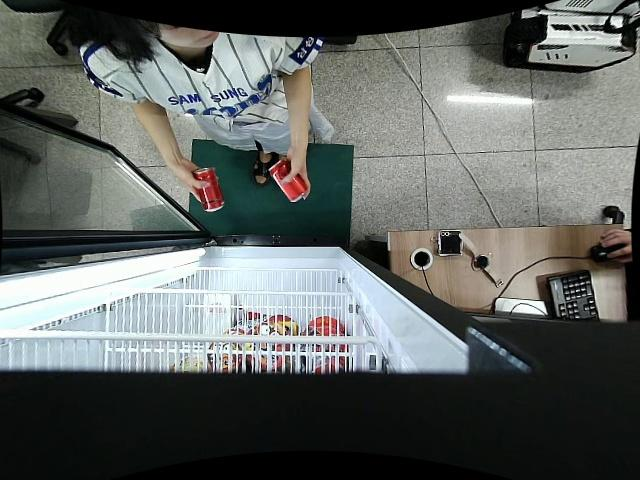00_hand: (280, 147, 311, 202), (174, 158, 211, 204)
11_cocaColaZero: (268, 159, 308, 204), (191, 167, 225, 213)
